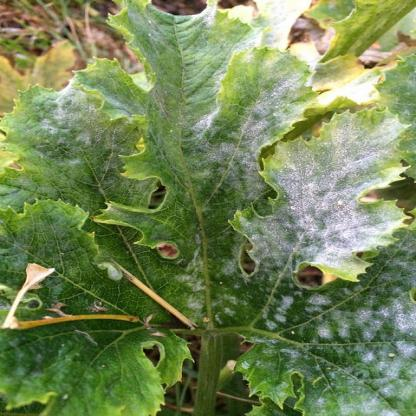Squash Powdery mildew leaf: (105, 1, 324, 280), (225, 103, 408, 289), (1, 62, 122, 218)
